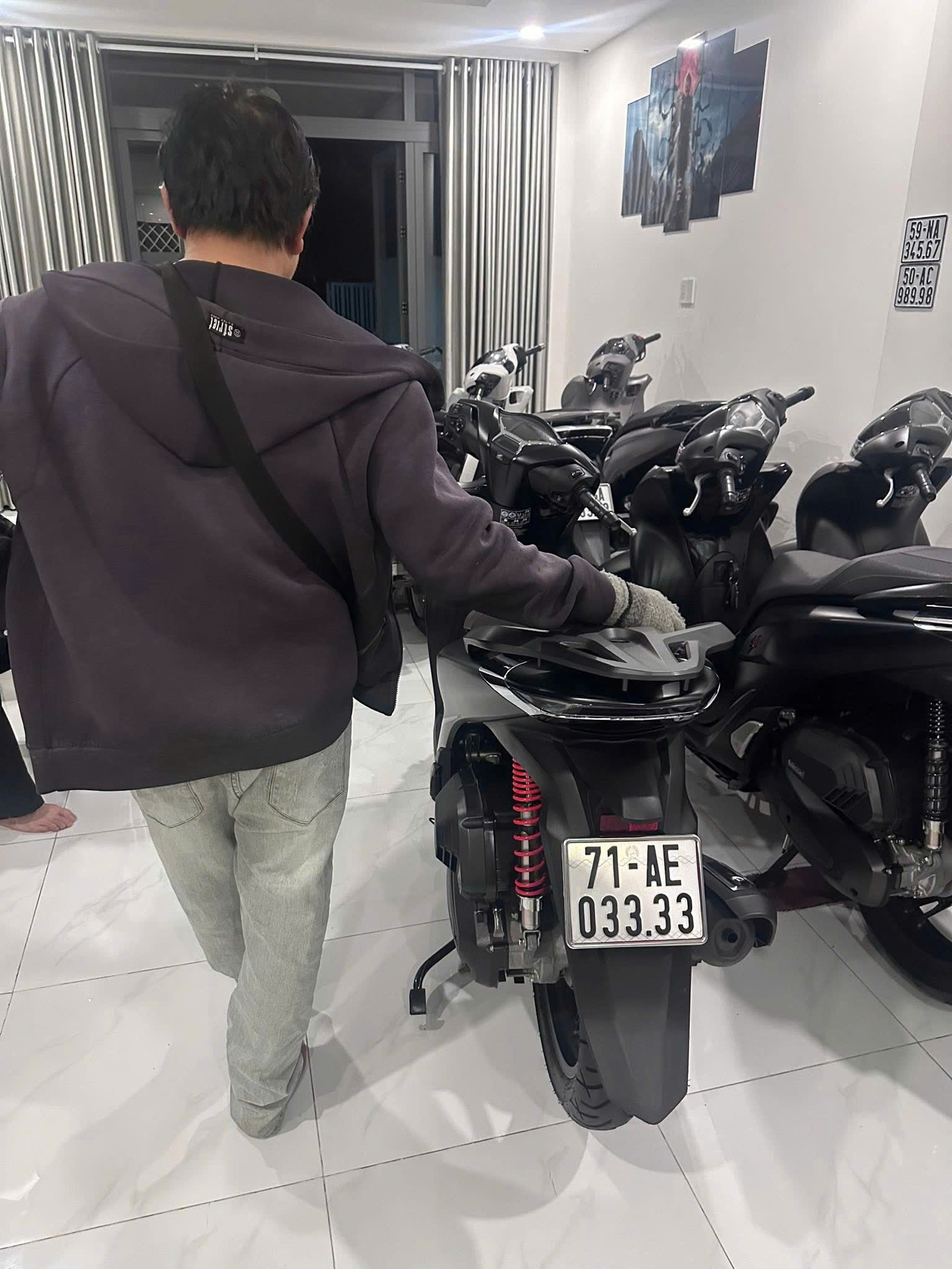Bien-so: (564, 834, 704, 945)
